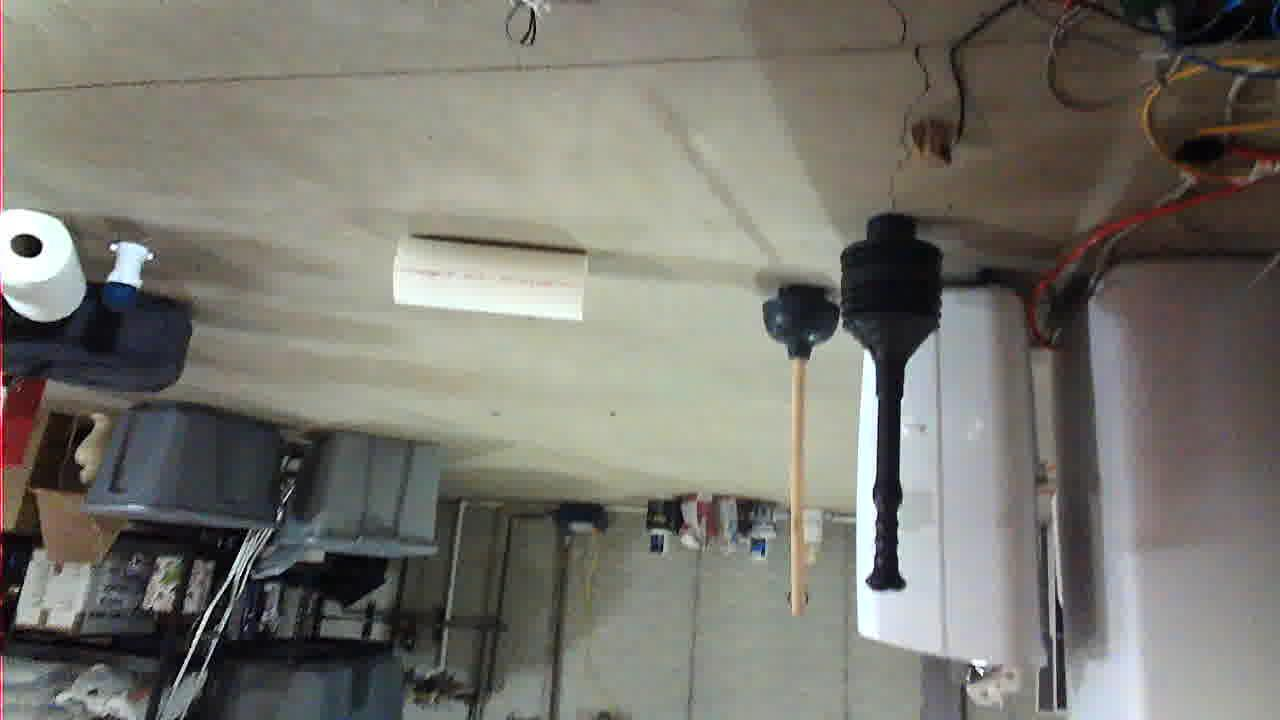coral: (693, 399, 884, 482)
